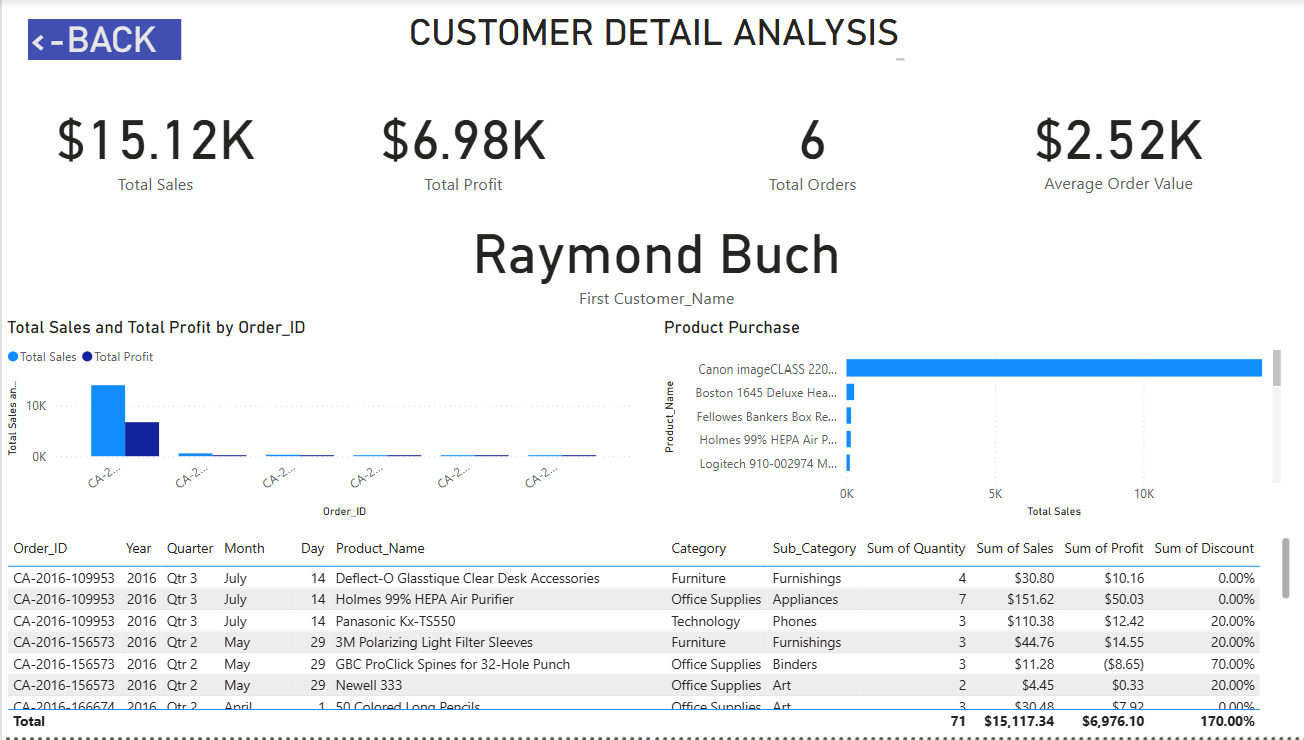

The page's visual inventory and layout, read from the dashboard file:
{"tool":"powerbi","page":{"name":"Customer Drill-Through","canvas":[1280,720],"ordinal":3},"visuals":[{"type":"textbox","title":"CUSTOMER DETAIL ANALYSIS","box":[393.5,12.2,493,53.6],"z":0},{"type":"actionButton","title":"<-BACK","box":[26,19.9,150,39.8],"z":1},{"type":"card","fields":{"Values":["Superstore.Total Sales"]},"box":[0,65.8,300.1,150],"z":2},{"type":"card","fields":{"Values":["Superstore.Total Profit"]},"box":[300.1,65.8,300.1,150],"z":3},{"type":"card","fields":{"Values":["Superstore.Total Orders"]},"box":[640,65.8,300.1,150],"z":4},{"type":"card","fields":{"Values":["Superstore.Average Order Value"]},"box":[940.1,67.4,300.1,148.5],"z":5},{"type":"card","fields":{"Values":["Min(Superstore.Customer_Name)"]},"box":[414.9,196,450.1,114.8],"z":6},{"type":"clusteredColumnChart","fields":{"Y":["Superstore.Total Sales","Superstore.Total Profit"],"Category":["Superstore.Order_ID"]},"box":[0,310.8,621.6,199],"z":7},{"type":"barChart","title":"Product Purchase","fields":{"Category":["Superstore.Product_Name"],"Y":["Superstore.Total Sales"]},"box":[640,310.8,612.4,199],"z":8},{"type":"tableEx","fields":{"Values":["Superstore.Order_ID","Superstore.Order_Date.Variation.Date Hierarchy.Year","Superstore.Order_Date.Variation.Date Hierarchy.Month","Superstore.Order_Date.Variation.Date Hierarchy.Day","Superstore.Product_Name","Superstore.Category","Superstore.Sub_Category","Sum(Superstore.Quantity)","Sum(Superstore.Sales)","Sum(Superstore.Profit)","Sum(Superstore.Discount)"]},"box":[0,520.6,1263.2,199],"z":9}]}

Visuals, with their boxes in screenshot pixels (x1, y1, x2, y2), scaled from the page's 1280x720 canvas onto the 1304x740 screenshot:
"CUSTOMER DETAIL ANALYSIS" textbox: x1=401 y1=13 x2=903 y2=68
"<-BACK" actionButton: x1=26 y1=20 x2=179 y2=61
card - Superstore.Total Sales: x1=0 y1=68 x2=306 y2=222
card - Superstore.Total Profit: x1=306 y1=68 x2=611 y2=222
card - Superstore.Total Orders: x1=652 y1=68 x2=958 y2=222
card - Superstore.Average Order Value: x1=958 y1=69 x2=1263 y2=222
card - Min(Superstore.Customer_Name): x1=423 y1=201 x2=881 y2=319
clusteredColumnChart - Superstore.Total Sales x Superstore.Total Profit: x1=0 y1=319 x2=633 y2=524
"Product Purchase" barChart: x1=652 y1=319 x2=1276 y2=524
tableEx - Superstore.Order_ID x Superstore.Order_Date.Variation.Date Hierarchy.Year: x1=0 y1=535 x2=1287 y2=739
